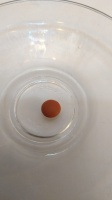Dolorex: (40, 99, 62, 119)
